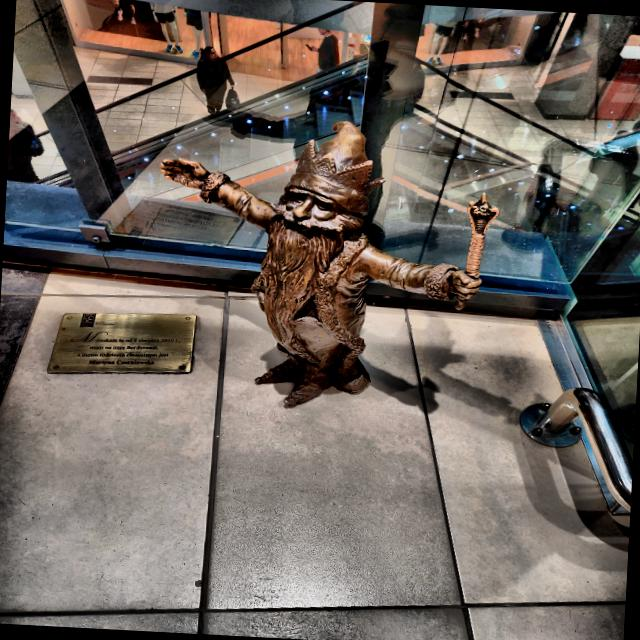Serdecznis: (161, 121, 498, 407)
